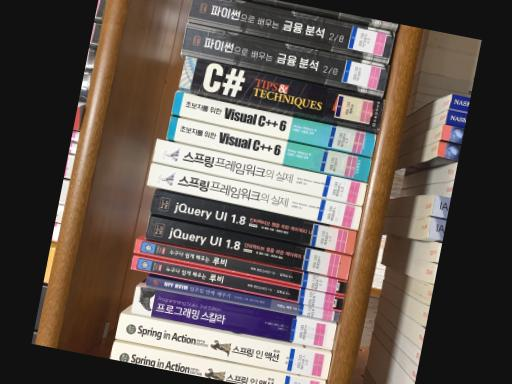book-spine: (181, 21, 388, 97), (179, 54, 384, 129), (151, 137, 367, 206), (147, 162, 361, 230), (115, 312, 332, 379), (171, 89, 376, 156), (149, 188, 357, 254), (166, 115, 371, 181), (144, 214, 351, 279), (131, 285, 336, 350), (187, 0, 396, 62), (130, 254, 345, 311), (133, 238, 346, 295), (109, 340, 326, 384), (146, 274, 339, 321)
